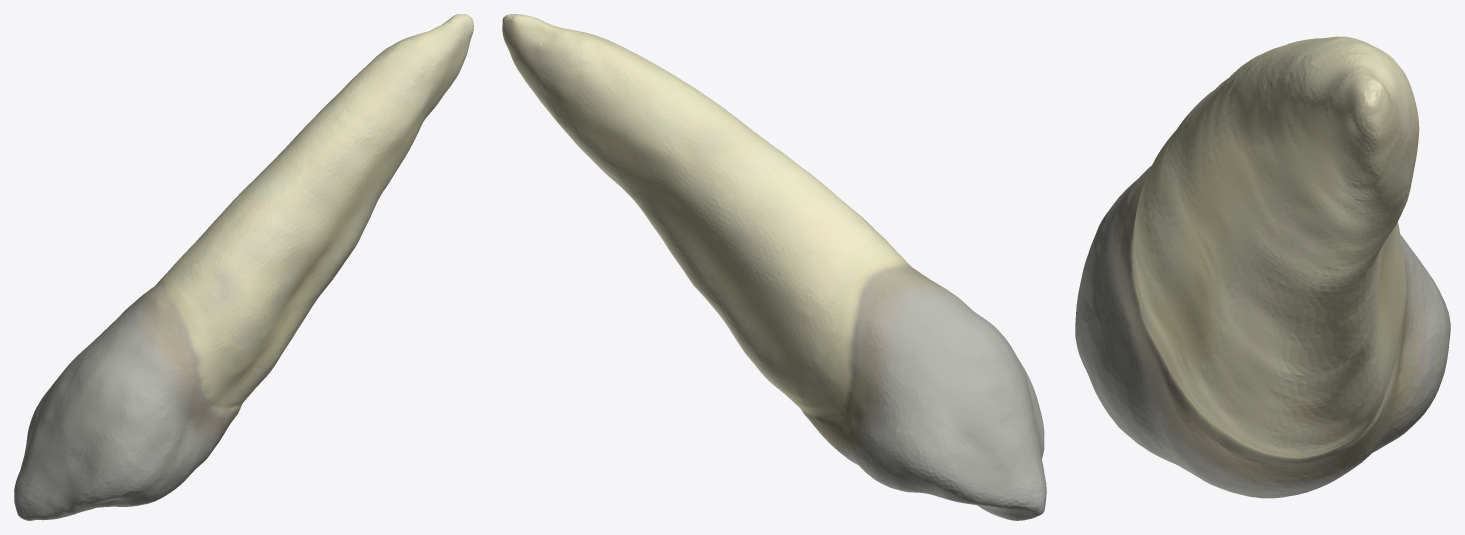
3 views of the same model, side by side, from view 1: azimuth 30°, elevation 25°; view 2: azimuth 150°, elevation 25°; view 3: azimuth 270°, elevation 25° (orthographic). The views are drawn at different scales.
Visible parts, largest first — view 1: 3MFMeshParent_0; view 2: 3MFMeshParent_0; view 3: 3MFMeshParent_0.
Part boxes in pixels (x1,y1,x2,y2): 3MFMeshParent_0: (14, 14, 473, 520); 3MFMeshParent_0: (502, 14, 1046, 520); 3MFMeshParent_0: (1075, 36, 1450, 498).
Size of the model in its own units: 0.512 by 0.3866 by 0.1736.
1 material, 1 textured.
